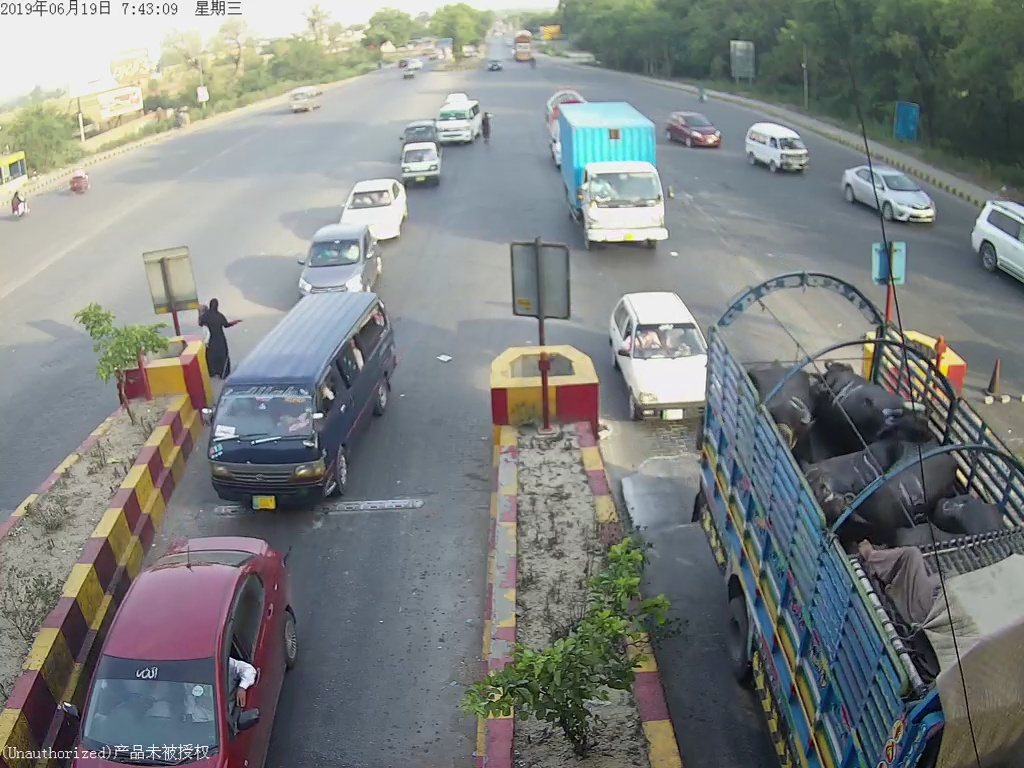Cat-1: (612, 295, 700, 424), (295, 224, 377, 285), (343, 178, 404, 229)
Cat-2: (207, 293, 397, 515), (552, 101, 672, 258)
